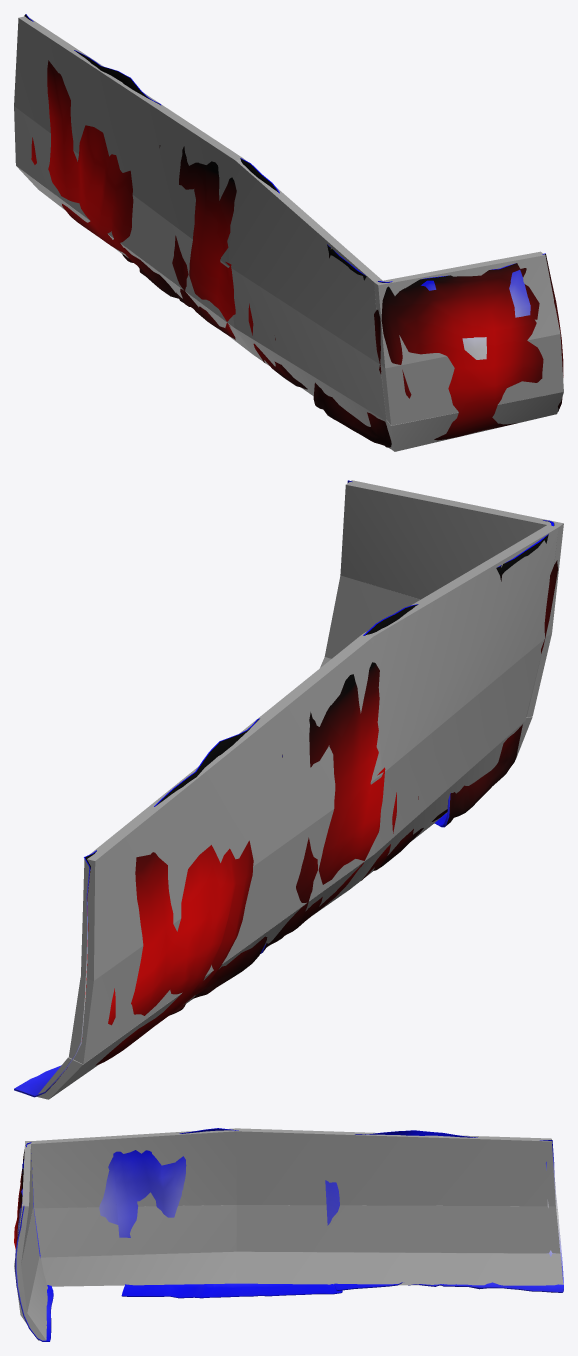
Rendered from Tent_04_Mesh.fbx.
The picture shows the model from 3 angles, top to bottom: view 1: azimuth 30°, elevation 25°; view 2: azimuth 150°, elevation 25°; view 3: azimuth 270°, elevation 25°; orthographic projection. The views are drawn at different scales.
Visible parts, largest first — view 1: Tent_04_LOD0, Tent_04_COL_01, Tent_04_COL_03, Tent_04_COL_04, Tent_04_COL_07, Tent_04_COL_00, Tent_04_COL_08, Tent_04_COL_06, Tent_04_COL_05, Tent_04_COL_02; view 2: Tent_04_LOD0, Tent_04_COL_01, Tent_04_COL_03, Tent_04_COL_08, Tent_04_COL_00, Tent_04_COL_04, Tent_04_COL_07, Tent_04_COL_02, Tent_04_COL_05; view 3: Tent_04_COL_01, Tent_04_COL_00, Tent_04_COL_03, Tent_04_LOD0, Tent_04_COL_02, Tent_04_COL_04, Tent_04_COL_05, Tent_04_COL_07, Tent_04_COL_06, Tent_04_COL_08.
Part boxes in pixels (left/top/right/bottom): Tent_04_LOD0: left=24, top=14, right=563, bottom=447; Tent_04_COL_01: left=14, top=16, right=243, bottom=265; Tent_04_COL_03: left=228, top=158, right=382, bottom=364; Tent_04_COL_04: left=228, top=266, right=386, bottom=420; Tent_04_COL_07: left=380, top=334, right=563, bottom=425; Tent_04_COL_00: left=14, top=106, right=234, bottom=327; Tent_04_COL_08: left=374, top=251, right=560, bottom=368; Tent_04_COL_06: left=386, top=392, right=563, bottom=451; Tent_04_COL_05: left=235, top=328, right=389, bottom=448; Tent_04_COL_02: left=16, top=166, right=252, bottom=354; Tent_04_LOD0: left=14, top=480, right=557, bottom=1097; Tent_04_COL_01: left=81, top=634, right=381, bottom=980; Tent_04_COL_03: left=363, top=524, right=558, bottom=773; Tent_04_COL_08: left=340, top=480, right=563, bottom=636; Tent_04_COL_00: left=69, top=774, right=381, bottom=1064; Tent_04_COL_04: left=374, top=639, right=544, bottom=853; Tent_04_COL_07: left=324, top=575, right=551, bottom=717; Tent_04_COL_02: left=37, top=855, right=373, bottom=1099; Tent_04_COL_05: left=350, top=721, right=524, bottom=888; Tent_04_COL_01: left=236, top=1128, right=555, bottom=1206; Tent_04_COL_00: left=236, top=1205, right=560, bottom=1253; Tent_04_COL_03: left=31, top=1128, right=236, bottom=1208; Tent_04_LOD0: left=14, top=1128, right=563, bottom=1341; Tent_04_COL_02: left=236, top=1251, right=563, bottom=1285; Tent_04_COL_04: left=34, top=1205, right=236, bottom=1257; Tent_04_COL_05: left=41, top=1251, right=236, bottom=1286; Tent_04_COL_07: left=14, top=1207, right=39, bottom=1314; Tent_04_COL_06: left=20, top=1256, right=47, bottom=1340; Tent_04_COL_08: left=14, top=1141, right=33, bottom=1265.
Size of what is drawn, in the model's own units: 24455 by 24489 by 80545.
